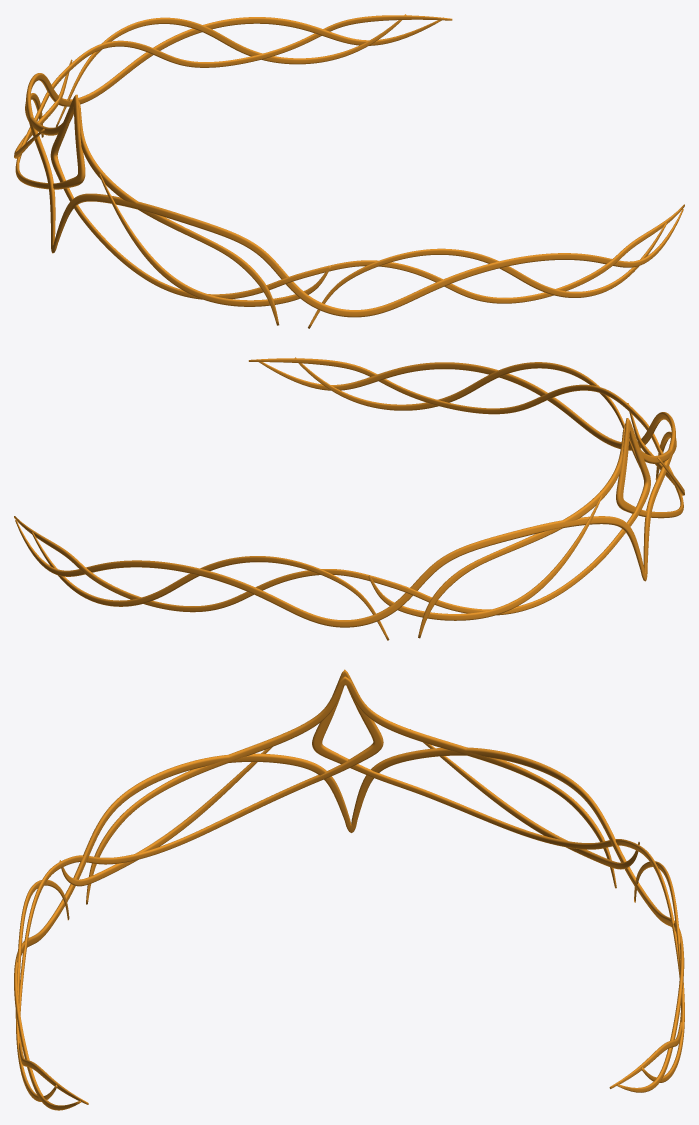
File: suraimu_kanmuri.fbx
3 views of the same model, one above another, from view 1: azimuth 30°, elevation 25°; view 2: azimuth 150°, elevation 25°; view 3: azimuth 270°, elevation 25° (orthographic). The views are drawn at different scales.
Parts seen in each view (by area): view 1: diadema; view 2: diadema; view 3: diadema.
Boxes of the visible parts, box(x1,y1,x2,y2) form: diadema: box(14, 14, 684, 328); diadema: box(14, 357, 684, 640); diadema: box(14, 669, 684, 1110).
Size of the model in its own units: 882 by 308 by 887.
